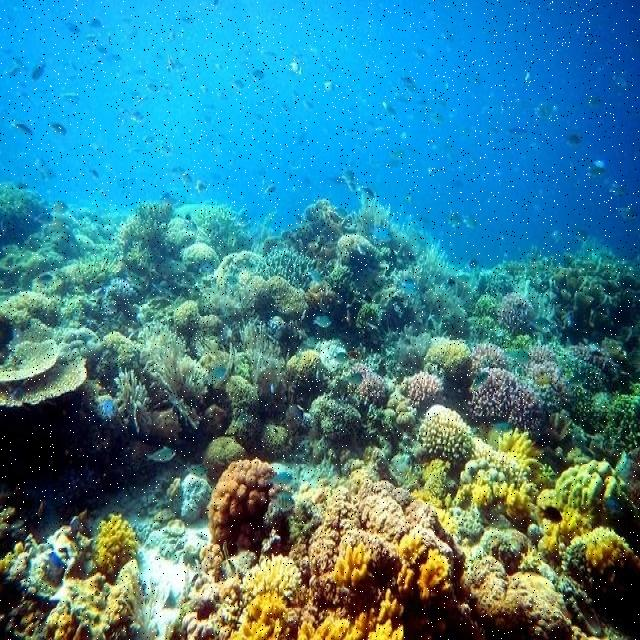reefs: (230, 469, 485, 639), (468, 341, 551, 436), (206, 456, 281, 551), (1, 340, 88, 408)
